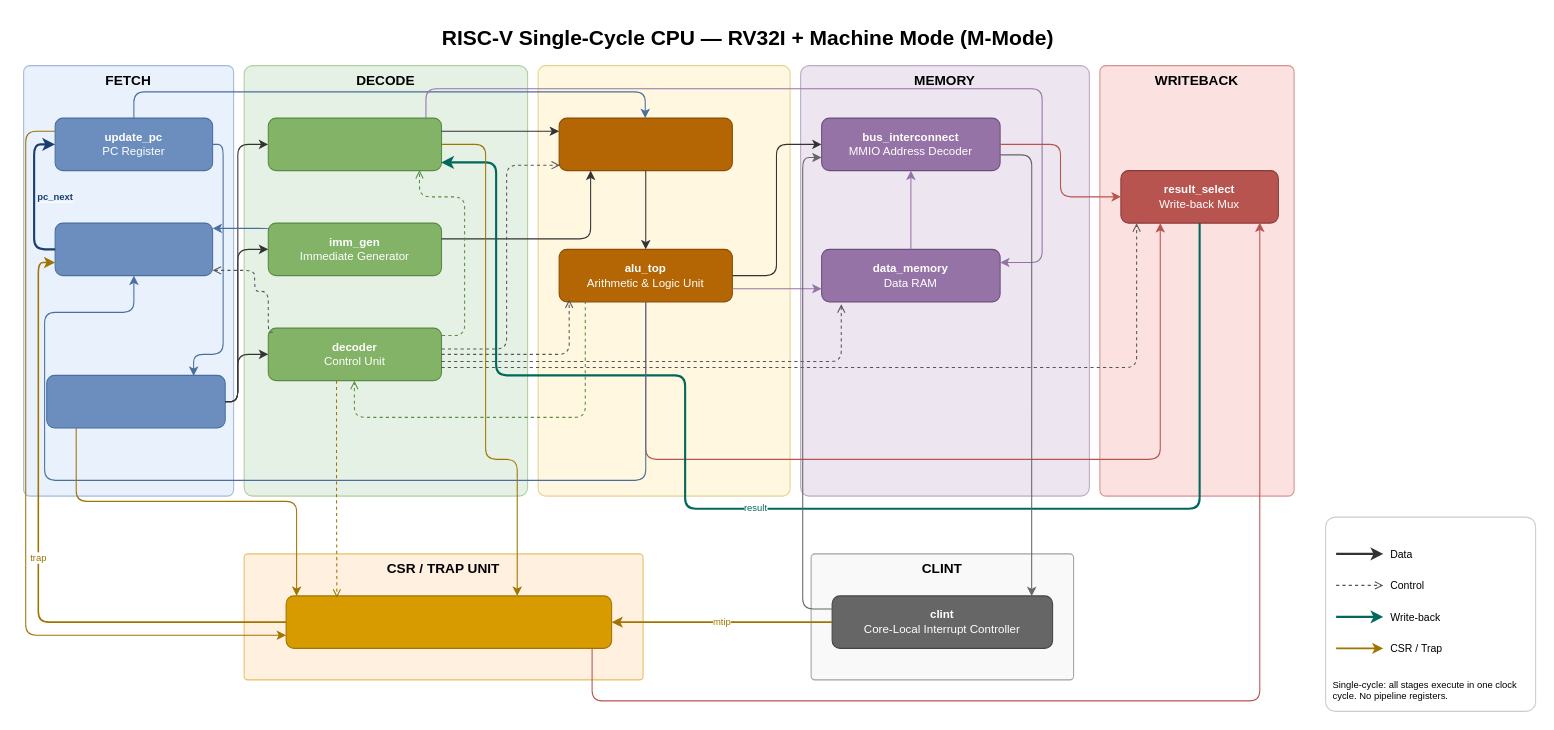
Image size: 1554x730. Some labels were removed from this diagram. Each missing label, with the box of its shape:
csr_regfile Machine-Mode CSR Registers & Trap Handler: (285, 595, 612, 648)
EXECUTE: (537, 65, 790, 496)
instruction_memory Instruction ROM: (46, 374, 225, 428)
Legend: (1325, 516, 1536, 711)
next_pc Next-PC Selection: (54, 222, 213, 276)
operand_select ALU Input Selection: (558, 117, 732, 171)
register_file 32 x 32-bit Registers: (267, 117, 442, 171)
